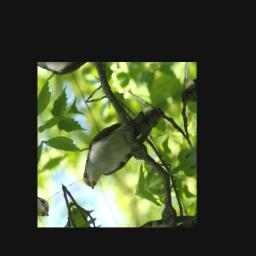Cuckoo: (69, 97, 176, 192)
